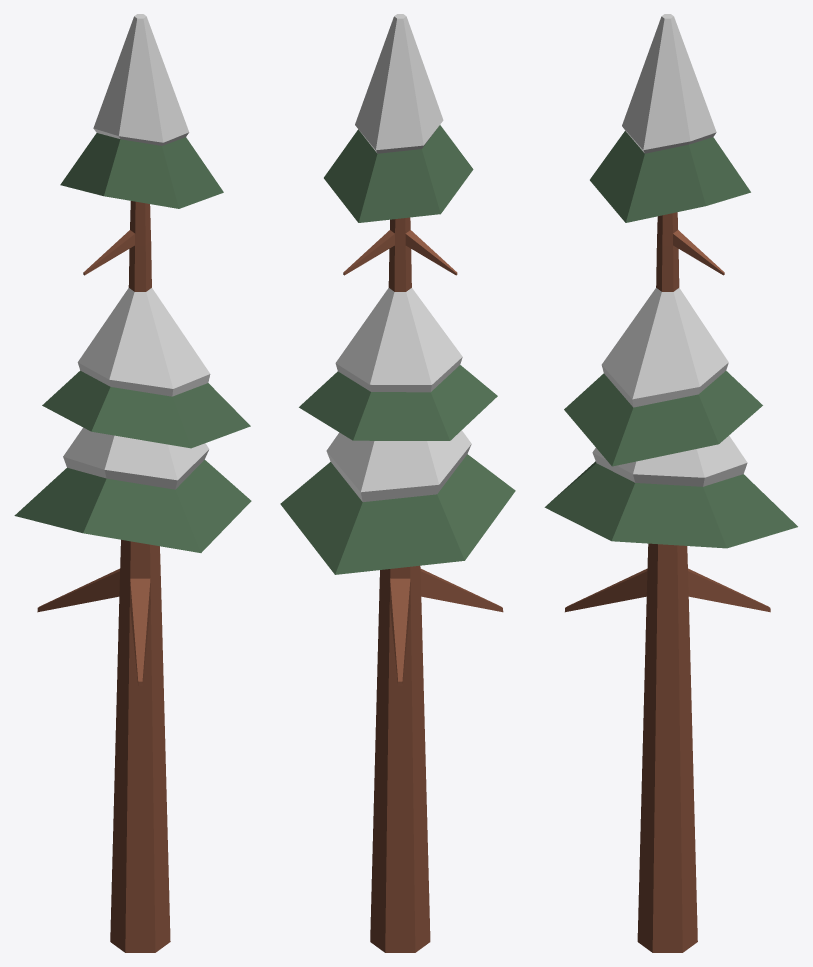
File: Conifer_Snow.fbx
The picture shows the model from 3 angles, left to right: view 1: azimuth 30°, elevation 25°; view 2: azimuth 150°, elevation 25°; view 3: azimuth 270°, elevation 25°; orthographic projection.
Parts seen in each view (by area): view 1: Conifer_Snow; view 2: Conifer_Snow; view 3: Conifer_Snow.
Part boxes in pixels (x1,y1,x2,y2): Conifer_Snow: (14, 14, 251, 952); Conifer_Snow: (280, 14, 515, 952); Conifer_Snow: (544, 14, 797, 952).
Bounding box in the file's own units: 1.69 × 8.03 × 2.
